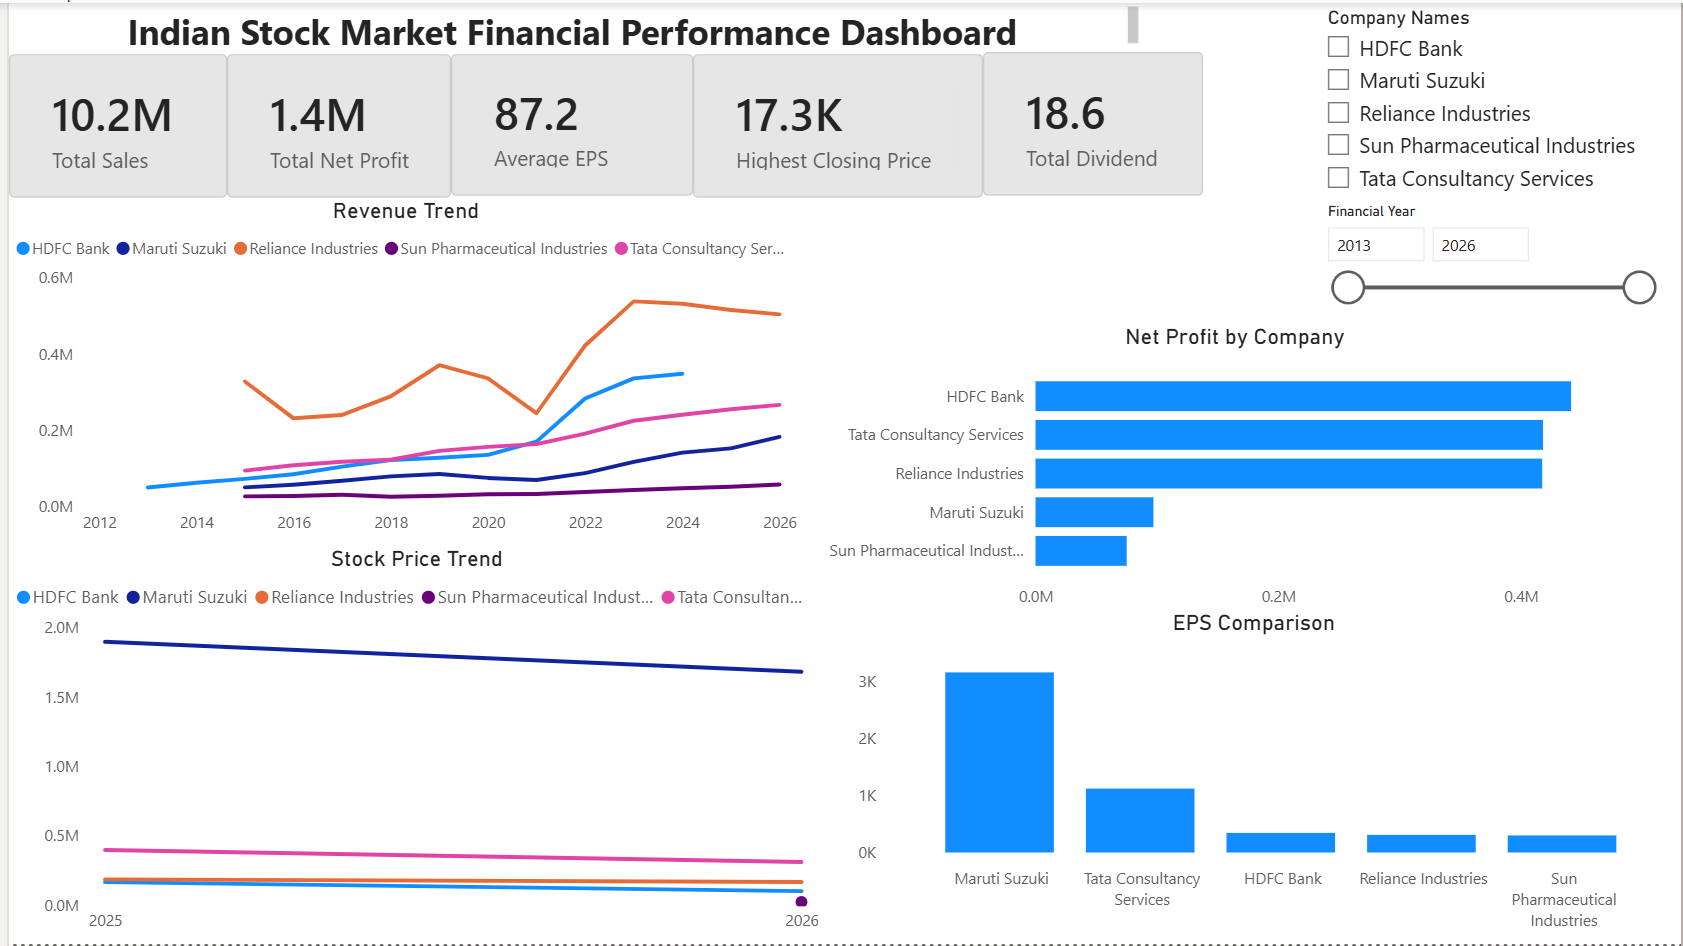

What the dashboard file says about the page in this screenshot:
{"tool":"powerbi","page":{"name":"Page 1","canvas":[1280,720],"ordinal":0},"visuals":[{"type":"cardVisual","fields":{"Data":["FinancialStatements.Total Sales"]},"box":[0,41.3,166.9,110.2],"z":0},{"type":"cardVisual","fields":{"Data":["FinancialStatements.Total Net Profit"]},"box":[166.9,41.3,171.5,110.2],"z":1000},{"type":"cardVisual","fields":{"Data":["FinancialStatements.Average EPS"]},"box":[338.4,41.3,185.3,108.7],"z":2000},{"type":"cardVisual","title":"f","fields":{"Data":["stockprices.Highest Close Price"]},"box":[523.6,41.3,222,110.2],"z":3000},{"type":"textbox","box":[0,0,869.7,41.3],"z":4000},{"type":"lineChart","title":"Revenue Trend","fields":{"Category":["FinancialStatements.FinancialYear"],"Y":["Sum(FinancialStatements.Sales)"],"Series":["Companies.CompanyName"]},"box":[0,151.6,607.8,266.4],"z":5000},{"type":"clusteredBarChart","title":"Net Profit by Company","fields":{"Category":["Companies.CompanyName"],"Y":["Sum(FinancialStatements.NetProfit)"]},"box":[607.8,248,661.4,235.8],"z":6000},{"type":"lineChart","title":"Stock Price Trend","fields":{"Category":["stockprices.TradeDate.Variation.Date Hierarchy.Year"],"Y":["Sum(stockprices.ClosePrice)"],"Series":["Companies.CompanyName"]},"box":[0,418,624.7,304.7],"z":7000},{"type":"clusteredColumnChart","title":"EPS Comparison ","fields":{"Category":["Companies.CompanyName"],"Y":["Sum(FinancialStatements.EPS)"]},"box":[624.7,467,656.8,252.6],"z":8000},{"type":"slicer","fields":{"Values":["Companies.CompanyName"]},"box":[996.7,0,283.3,156.2],"z":9000},{"type":"slicer","fields":{"Values":["FinancialStatements.FinancialYear"]},"box":[996.7,150,272.5,98],"z":10000},{"type":"cardVisual","fields":{"Data":["FinancialStatements.Total Dividend"]},"box":[745.6,39.8,168.4,110.2],"z":12000}]}

Visuals, with their boxes in screenshot pixels (x1, y1, x2, y2), scaled from the page's 1280x720 canvas onto the 1683x946 screenshot:
cardVisual - FinancialStatements.Total Sales: 0/54/219/199
cardVisual - FinancialStatements.Total Net Profit: 219/54/445/199
cardVisual - FinancialStatements.Average EPS: 445/54/689/197
"f" cardVisual: 688/54/980/199
textbox: 0/0/1144/54
"Revenue Trend" lineChart: 0/199/799/549
"Net Profit by Company" clusteredBarChart: 799/326/1669/636
"Stock Price Trend" lineChart: 0/549/821/945
"EPS Comparison " clusteredColumnChart: 821/614/1682/945
slicer - Companies.CompanyName: 1311/0/1682/205
slicer - FinancialStatements.FinancialYear: 1311/197/1669/326
cardVisual - FinancialStatements.Total Dividend: 980/52/1202/197
